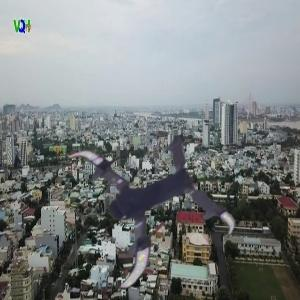drone: (56, 121, 223, 288)
